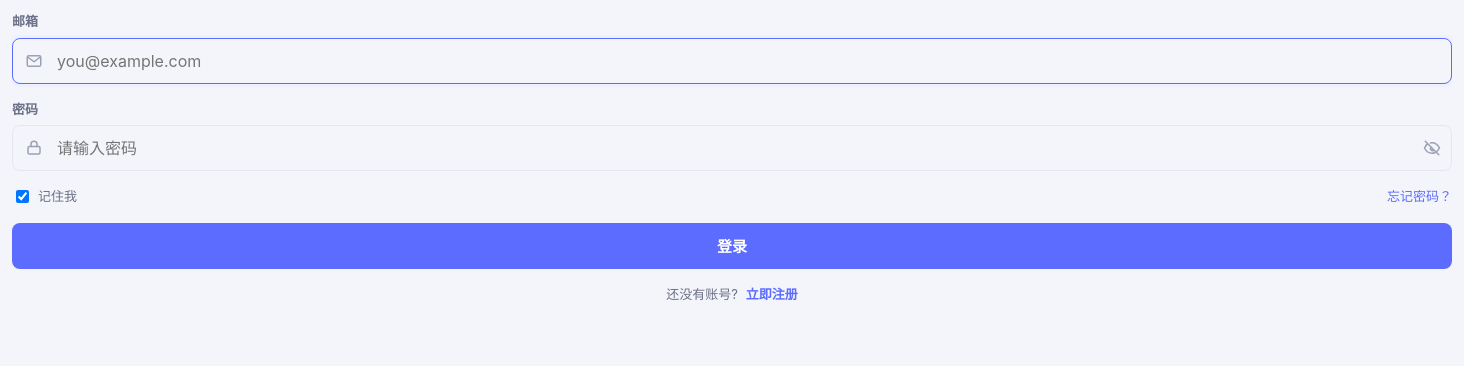
Test: LoginForm.vue › clears the email error when the user types again
The width and height of the screenshot is (1464, 366).
Submit the form
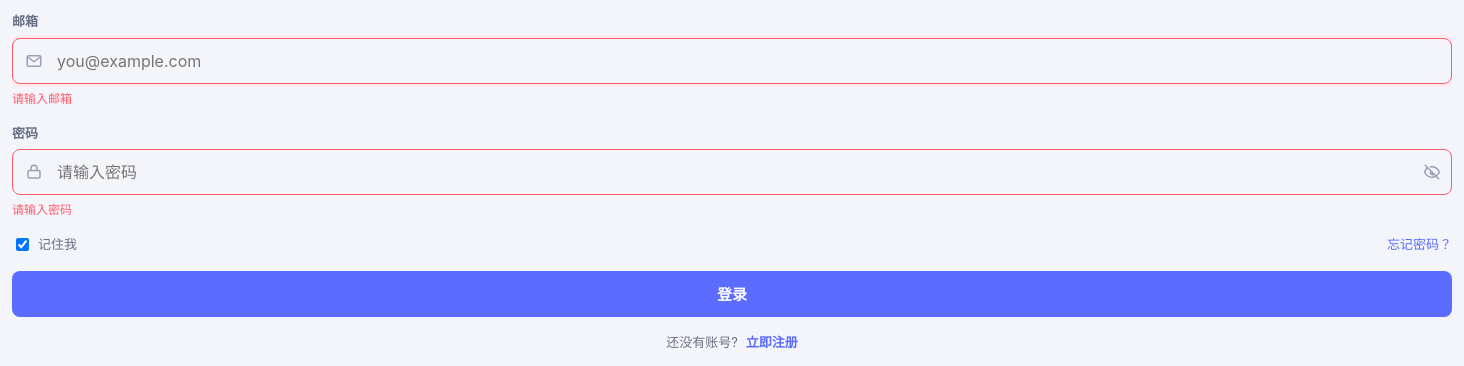
Result: the form shows "请输入邮箱" at [12, 90, 72, 106]
Type "a@b.com" into the field labelled "邮箱" at (753, 60), box [55, 38, 1451, 82]
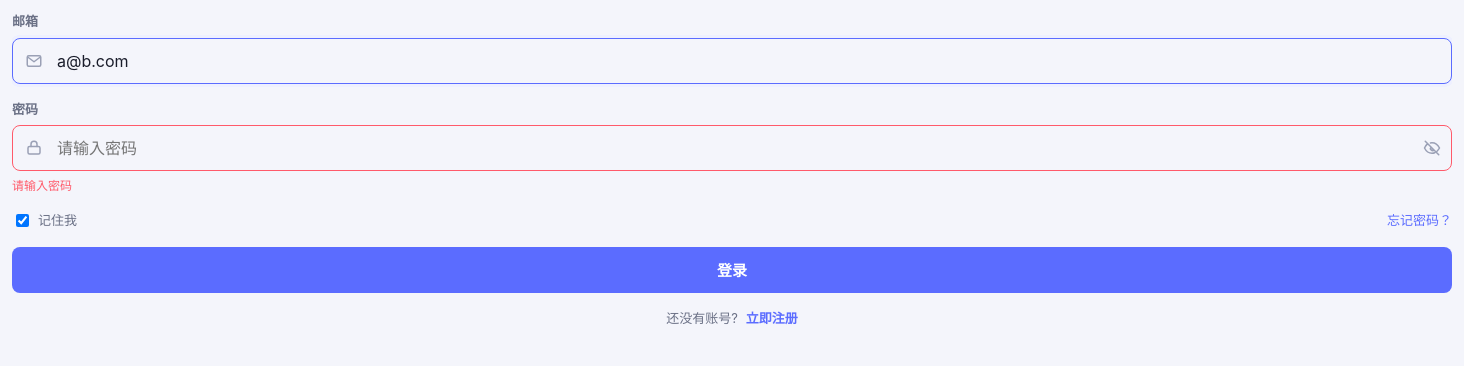
Result: the text "请输入邮箱" is gone
